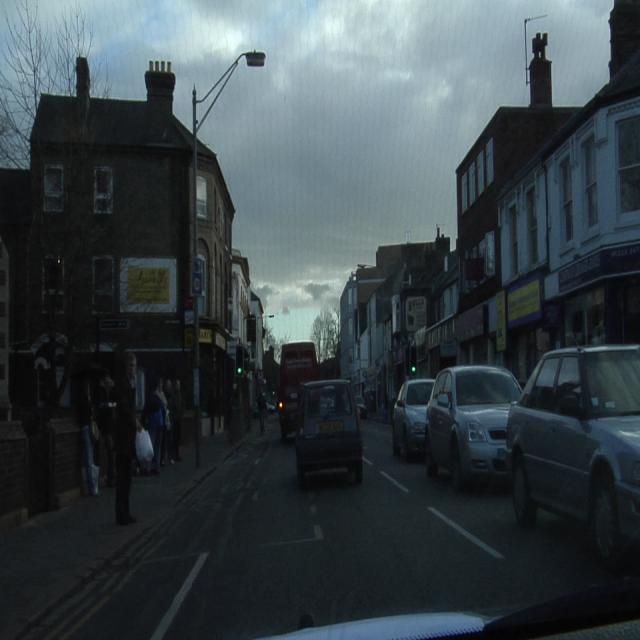Building: (339, 8, 639, 412), (1, 50, 265, 429)
Car: (508, 348, 639, 567), (426, 366, 518, 488), (296, 381, 363, 487), (393, 380, 433, 453)
Road: (26, 422, 639, 636)
Tree: (0, 0, 94, 168), (310, 308, 340, 378)
person: (113, 362, 135, 523), (76, 375, 99, 495), (140, 380, 167, 468)
